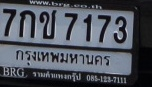num7: (1, 7, 17, 38)
txt01: (18, 9, 37, 40)
txt08: (38, 9, 57, 41)
